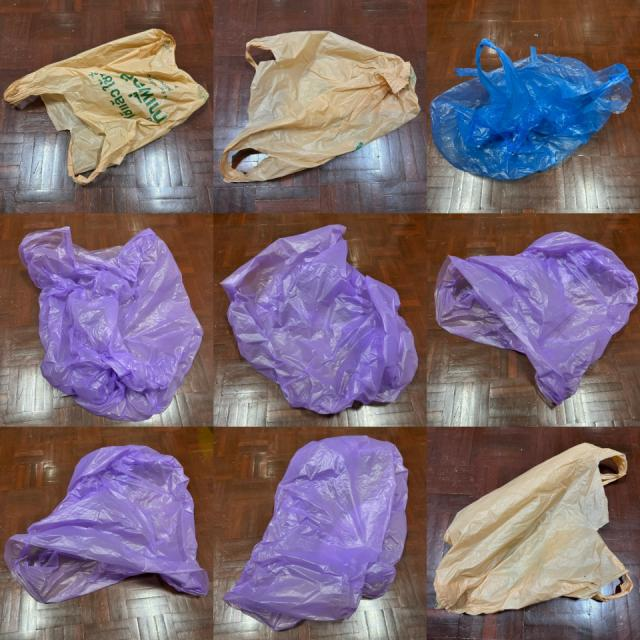Single-layer Plastic: (221, 225, 418, 414), (224, 436, 408, 630), (19, 228, 202, 421), (435, 231, 639, 404), (435, 444, 632, 614), (5, 445, 208, 602), (4, 29, 209, 184), (220, 31, 420, 182), (431, 39, 631, 179)
